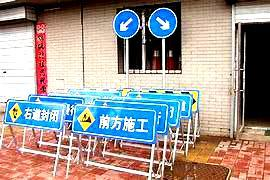sign: (75, 106, 154, 140), (6, 101, 63, 129)
